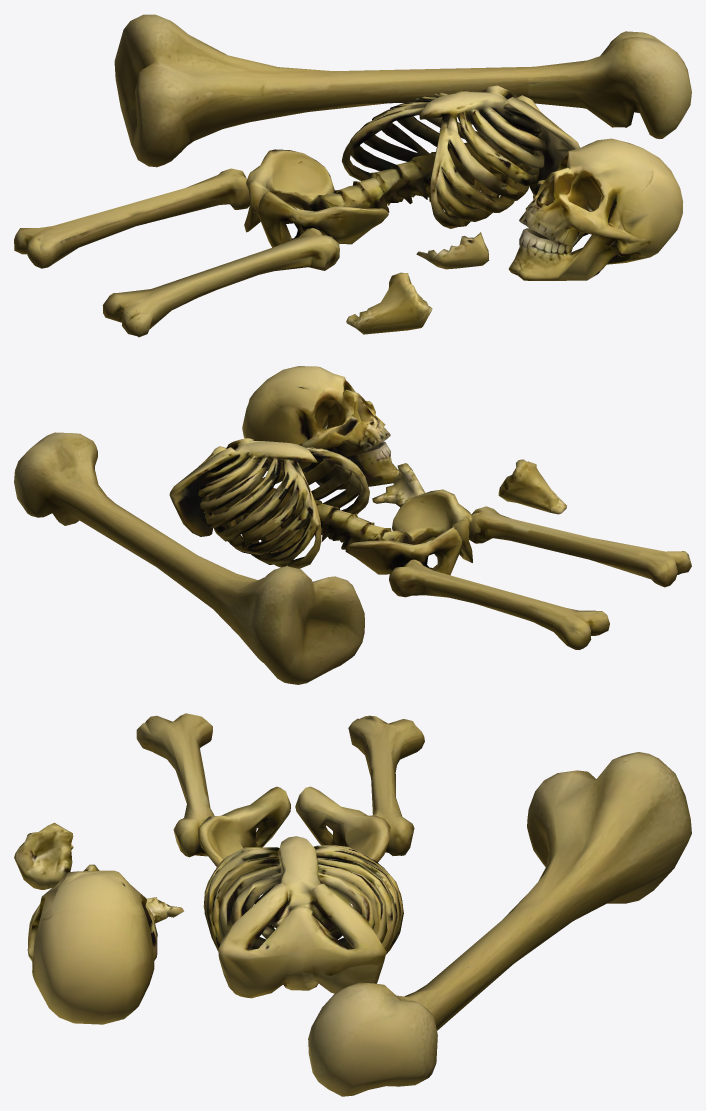
The model's file is RandomBones.opt.glb.
3 views of the same model, one above another, from view 1: azimuth 30°, elevation 25°; view 2: azimuth 150°, elevation 25°; view 3: azimuth 270°, elevation 25° (orthographic). The views are drawn at different scales.
Visible parts, largest first — view 1: node_0; view 2: node_0; view 3: node_0.
Part boxes in pixels (left/top/right/bottom): node_0: left=14, top=14, right=691, bottom=337; node_0: left=14, top=366, right=691, bottom=684; node_0: left=14, top=713, right=691, bottom=1096.
Bounding box in the file's own units: 1.08 × 0.2079 × 0.8624.
1 material, 1 textured.
